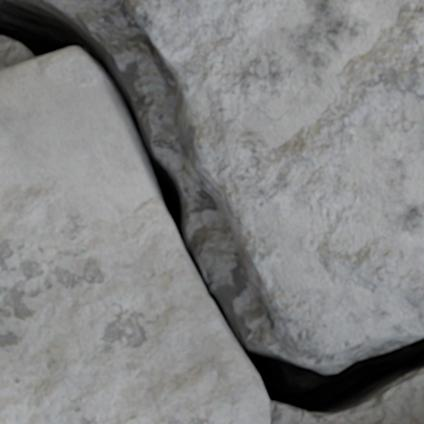brick: (126, 0, 423, 357), (0, 48, 269, 423)
crack: (0, 0, 423, 423)
